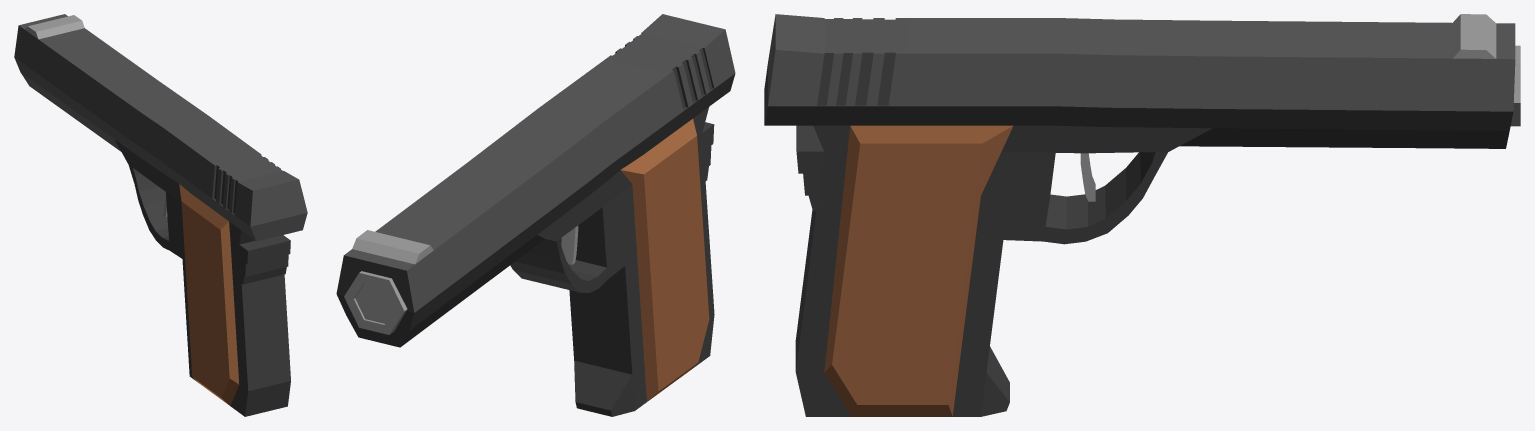
The model's file is arma002.fbx.
3 renders of one model, left to right at view 1: azimuth 30°, elevation 25°; view 2: azimuth 150°, elevation 25°; view 3: azimuth 270°, elevation 25°, orthographic. The views are drawn at different scales.
Parts seen in each view (by area): view 1: Corpo; view 2: Corpo, Furo; view 3: Corpo.
Boxes of the visible parts, <box> form: Corpo: <box>14,14,307,416</box>; Corpo: <box>336,14,735,416</box>; Furo: <box>344,271,407,334</box>; Corpo: <box>764,14,1515,416</box>.
Size of the model in its own units: 25.05 by 96.45 by 179.
